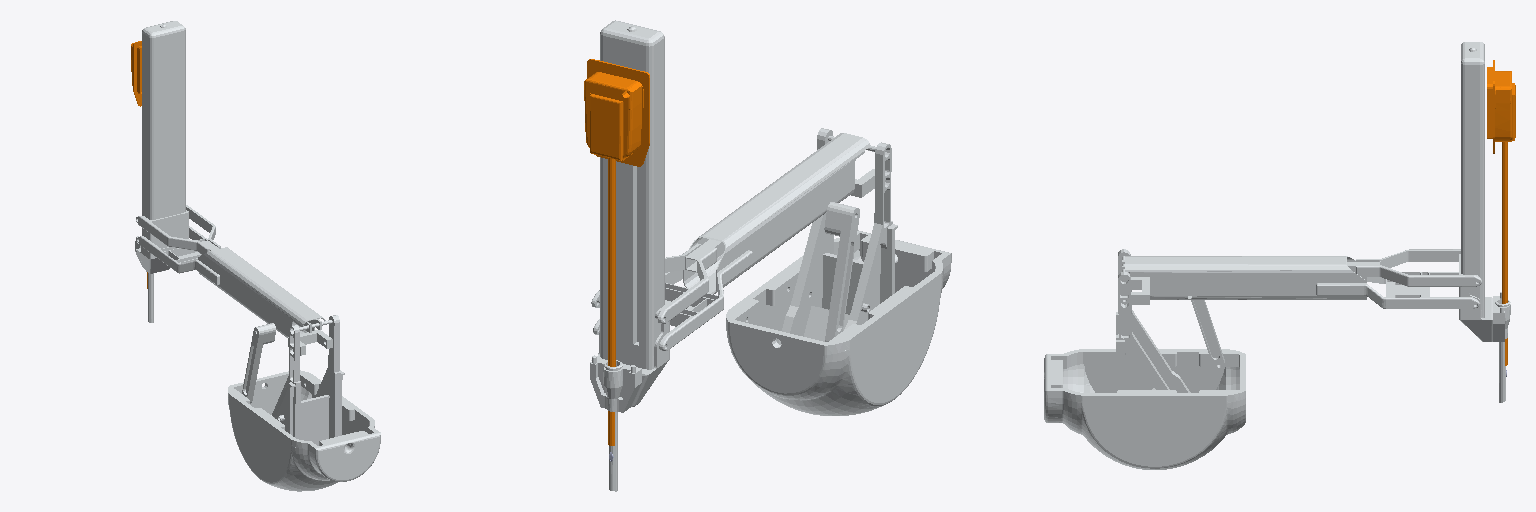
robot.urdf — PSM_PACKAGE:
<robot
  name="PSM_PACKAGE">
  <link
    name="base_link">
    <inertial>
      <origin
        xyz="-1.218799738518E-08 -0.170155334863205 -0.0856068339372725"
        rpy="0 0 0" />
      <mass
        value="2.01611935350024" />
      <inertia
        ixx="0"
        ixy="0"
        ixz="0"
        iyy="0"
        iyz="0"
        izz="0" />
    </inertial>
    <visual>
      <origin
        xyz="0 0 0"
        rpy="0 0 0" />
      <geometry>
        <mesh
          filename="package://PSM_PACKAGE/meshes/base_link.STL" />
      </geometry>
      <material
        name="">
        <color
          rgba="0.898039215686275 0.917647058823529 0.929411764705882 1" />
      </material>
    </visual>
    <collision>
      <origin
        xyz="0 0 0"
        rpy="0 0 0" />
      <geometry>
        <mesh
          filename="package://PSM_PACKAGE/meshes/base_link.STL" />
      </geometry>
    </collision>
  </link>
  <link
    name="yaw_Link">
    <inertial>
      <origin
        xyz="-0.038768826895421 7.84810687538258E-05 0.0415960702785929"
        rpy="0 0 0" />
      <mass
        value="1.47048370646334" />
      <inertia
        ixx="0"
        ixy="0"
        ixz="0"
        iyy="0"
        iyz="0"
        izz="0" />
    </inertial>
    <visual>
      <origin
        xyz="0 0 0"
        rpy="0 0 0" />
      <geometry>
        <mesh
          filename="package://PSM_PACKAGE/meshes/yaw_Link.STL" />
      </geometry>
      <material
        name="">
        <color
          rgba="0.898039215686275 0.917647058823529 0.929411764705882 1" />
      </material>
    </visual>
    <collision>
      <origin
        xyz="0 0 0"
        rpy="0 0 0" />
      <geometry>
        <mesh
          filename="package://PSM_PACKAGE/meshes/yaw_Link.STL" />
      </geometry>
    </collision>
  </link>
  <joint
    name="yaw_joint"
    type="continuous">
    <origin
      xyz="0 0 0"
      rpy="1.57079632679489 -1.5707963267949 0" />
    <parent
      link="base_link" />
    <child
      link="yaw_Link" />
    <axis
      xyz="0 0 -1" />
  </joint>
  <link
    name="pitch_back_Link">
    <inertial>
      <origin
        xyz="-0.0116509415966225 -0.0362409831473348 3.55759910590909E-05"
        rpy="0 0 0" />
      <mass
        value="0.984944647833389" />
      <inertia
        ixx="0"
        ixy="0"
        ixz="0"
        iyy="0"
        iyz="0"
        izz="0" />
    </inertial>
    <visual>
      <origin
        xyz="0 0 0"
        rpy="0 0 0" />
      <geometry>
        <mesh
          filename="package://PSM_PACKAGE/meshes/pitch_back_Link.STL" />
      </geometry>
      <material
        name="">
        <color
          rgba="0.898039215686275 0.917647058823529 0.929411764705882 1" />
      </material>
    </visual>
    <collision>
      <origin
        xyz="0 0 0"
        rpy="0 0 0" />
      <geometry>
        <mesh
          filename="package://PSM_PACKAGE/meshes/pitch_back_Link.STL" />
      </geometry>
    </collision>
  </link>
  <joint
    name="pitch_back_joint"
    type="continuous">
    <origin
      xyz="0 0 0.0296"
      rpy="-1.5708 -0.29073 1.7787E-15" />
    <parent
      link="yaw_Link" />
    <child
      link="pitch_back_Link" />
    <axis
      xyz="0 0 1" />
  </joint>
  <link
    name="pitch_bottom_Link">
    <inertial>
      <origin
        xyz="0.256832099418569 -0.0103480348656514 -6.17918787845137E-06"
        rpy="0 0 0" />
      <mass
        value="0.445694866856226" />
      <inertia
        ixx="0"
        ixy="0"
        ixz="0"
        iyy="0"
        iyz="0"
        izz="0" />
    </inertial>
    <visual>
      <origin
        xyz="0 0 0"
        rpy="0 0 0" />
      <geometry>
        <mesh
          filename="package://PSM_PACKAGE/meshes/pitch_bottom_Link.STL" />
      </geometry>
      <material
        name="">
        <color
          rgba="0.898039215686275 0.917647058823529 0.929411764705882 1" />
      </material>
    </visual>
    <collision>
      <origin
        xyz="0 0 0"
        rpy="0 0 0" />
      <geometry>
        <mesh
          filename="package://PSM_PACKAGE/meshes/pitch_bottom_Link.STL" />
      </geometry>
    </collision>
  </link>
  <joint
    name="pitch_bottom_joint"
    type="continuous">
    <origin
      xyz="0.15 0 0"
      rpy="0 0 1.8615" />
    <parent
      link="pitch_back_Link" />
    <child
      link="pitch_bottom_Link" />
    <axis
      xyz="0 0 1" />
  </joint>
  <link
    name="pitch_end_Link">
    <inertial>
      <origin
        xyz="-0.00192933659672778 -0.13612686758295 -5.97042575610683E-08"
        rpy="0 0 0" />
      <mass
        value="2.09102449600226" />
      <inertia
        ixx="0"
        ixy="0"
        ixz="0"
        iyy="0"
        iyz="0"
        izz="0" />
    </inertial>
    <visual>
      <origin
        xyz="0 0 0"
        rpy="0 0 0" />
      <geometry>
        <mesh
          filename="package://PSM_PACKAGE/meshes/pitch_end_Link.STL" />
      </geometry>
      <material
        name="">
        <color
          rgba="0.898039215686275 0.917647058823529 0.929411764705882 1" />
      </material>
    </visual>
    <collision>
      <origin
        xyz="0 0 0"
        rpy="0 0 0" />
      <geometry>
        <mesh
          filename="package://PSM_PACKAGE/meshes/pitch_end_Link.STL" />
      </geometry>
    </collision>
  </link>
  <joint
    name="pitch_end_joint"
    type="continuous">
    <origin
      xyz="0.516000000000004 0 0"
      rpy="0 0 -4.29558764834341E-13" />
    <parent
      link="pitch_bottom_Link" />
    <child
      link="pitch_end_Link" />
    <axis
      xyz="0 0 1" />
  </joint>
  <link
    name="main_insertion_Link">
    <inertial>
      <origin
        xyz="0.00405627466206293 -0.000109340705171561 0.0104645658395064"
        rpy="0 0 0" />
      <mass
        value="0.224908528510799" />
      <inertia
        ixx="1.79436848992526E-05"
        ixy="-6.21725156718615E-08"
        ixz="1.26595521175575E-05"
        iyy="2.68749808161646E-05"
        iyz="8.81213737729348E-08"
        izz="8.93216146530439E-06" />
    </inertial>
    <visual>
      <origin
        xyz="0 0 0"
        rpy="0 0 0" />
      <geometry>
        <mesh
          filename="package://PSM_PACKAGE/meshes/main_insertion_Link.STL" />
      </geometry>
      <material
        name="">
        <color
          rgba="1 0.556862745098039 0.0588235294117647 0.4" />
      </material>
    </visual>
    <collision>
      <origin
        xyz="0 0 0"
        rpy="0 0 0" />
      <geometry>
        <mesh
          filename="package://PSM_PACKAGE/meshes/main_insertion_Link.STL" />
      </geometry>
    </collision>
  </link>
  <joint
    name="main_insertion_joint"
    type="prismatic">
    <origin
      xyz="0.043 -0.28809 0"
      rpy="1.5708 0 3.1416" />
    <parent
      link="pitch_end_Link" />
    <child
      link="main_insertion_Link" />
    <axis
      xyz="0 0 -1" />
    <limit
      effort="0"
      velocity="0" />
  </joint>
  <link
    name="tool_roll_link">
    <inertial>
      <origin
        xyz="-1.1310785863472E-08 -7.45590006904056E-09 -0.00582338133566149"
        rpy="0 0 0" />
      <mass
        value="0.000332248646148611" />
      <inertia
        ixx="0"
        ixy="0"
        ixz="0"
        iyy="0"
        iyz="0"
        izz="0" />
    </inertial>
    <visual>
      <origin
        xyz="0 0 0"
        rpy="0 0 0" />
      <geometry>
        <mesh
          filename="package://PSM_PACKAGE/meshes/tool_roll_link.STL" />
      </geometry>
      <material
        name="">
        <color
          rgba="0.796078431372549 0.823529411764706 0.937254901960784 1" />
      </material>
    </visual>
    <collision>
      <origin
        xyz="0 0 0"
        rpy="0 0 0" />
      <geometry>
        <mesh
          filename="package://PSM_PACKAGE/meshes/tool_roll_link.STL" />
      </geometry>
    </collision>
  </link>
  <joint
    name="tool_roll_joint"
    type="continuous">
    <origin
      xyz="0 0 0.4169"
      rpy="4.0037E-15 2.5989E-29 -3.1416" />
    <parent
      link="main_insertion_Link" />
    <child
      link="tool_roll_link" />
    <axis
      xyz="0 0 -1" />
  </joint>
  <link
    name="tool_pitch_link">
    <inertial>
      <origin
        xyz="0.00357661239129972 -4.86748958434813E-05 4.44129526631568E-06"
        rpy="0 0 0" />
      <mass
        value="0.000259766323068838" />
      <inertia
        ixx="1.49981979951931E-13"
        ixy="1.93241332354976E-12"
        ixz="4.19072395860641E-12"
        iyy="1.4211666515159E-10"
        iyz="-5.7032472380205E-14"
        izz="1.42019280436736E-10" />
    </inertial>
    <visual>
      <origin
        xyz="0 0 0"
        rpy="0 0 0" />
      <geometry>
        <mesh
          filename="package://PSM_PACKAGE/meshes/tool_pitch_link.STL" />
      </geometry>
      <material
        name="">
        <color
          rgba="0.796078431372549 0.823529411764706 0.937254901960784 1" />
      </material>
    </visual>
    <collision>
      <origin
        xyz="0 0 0"
        rpy="0 0 0" />
      <geometry>
        <mesh
          filename="package://PSM_PACKAGE/meshes/tool_pitch_link.STL" />
      </geometry>
    </collision>
  </link>
  <joint
    name="tool_pitch_joint"
    type="continuous">
    <origin
      xyz="0 0 0"
      rpy="1.5708 -1.5708 0" />
    <parent
      link="tool_roll_link" />
    <child
      link="tool_pitch_link" />
    <axis
      xyz="0 0 -1" />
  </joint>
  <link
    name="tool_yaw_link">
    <inertial>
      <origin
        xyz="-3.38952951650343E-15 -1.5779044737485E-13 -5.00000011357526E-05"
        rpy="0 0 0" />
      <mass
        value="6.6366144807084E-06" />
      <inertia
        ixx="0"
        ixy="0"
        ixz="0"
        iyy="0"
        iyz="0"
        izz="0" />
    </inertial>
    <visual>
      <origin
        xyz="0 0 0"
        rpy="0 0 0" />
      <geometry>
        <mesh
          filename="package://PSM_PACKAGE/meshes/tool_yaw_link.STL" />
      </geometry>
      <material
        name="">
        <color
          rgba="0.796078431372549 0.823529411764706 0.937254901960784 1" />
      </material>
    </visual>
    <collision>
      <origin
        xyz="0 0 0"
        rpy="0 0 0" />
      <geometry>
        <mesh
          filename="package://PSM_PACKAGE/meshes/tool_yaw_link.STL" />
      </geometry>
    </collision>
  </link>
  <joint
    name="tool_yaw_joint"
    type="continuous">
    <origin
      xyz="0.0091 -5E-05 0"
      rpy="1.5708 -1.5708 0" />
    <parent
      link="tool_pitch_link" />
    <child
      link="tool_yaw_link" />
    <axis
      xyz="0 0 1" />
  </joint>
  <link
    name="tool_gripper1_link">
    <inertial>
      <origin
        xyz="0.000188736724872208 0.00135264310260425 -0.000866946464327167"
        rpy="0 0 0" />
      <mass
        value="3.90695979761291E-05" />
      <inertia
        ixx="0"
        ixy="0"
        ixz="0"
        iyy="0"
        iyz="0"
        izz="0" />
    </inertial>
    <visual>
      <origin
        xyz="0 0 0"
        rpy="0 0 0" />
      <geometry>
        <mesh
          filename="package://PSM_PACKAGE/meshes/tool_gripper1_link.STL" />
      </geometry>
      <material
        name="">
        <color
          rgba="0.796078431372549 0.823529411764706 0.937254901960784 1" />
      </material>
    </visual>
    <collision>
      <origin
        xyz="0 0 0"
        rpy="0 0 0" />
      <geometry>
        <mesh
          filename="package://PSM_PACKAGE/meshes/tool_gripper1_link.STL" />
      </geometry>
    </collision>
  </link>
  <joint
    name="tool_gripper1_joint"
    type="continuous">
    <origin
      xyz="0 0 0"
      rpy="0 0 0" />
    <parent
      link="tool_yaw_link" />
    <child
      link="tool_gripper1_link" />
    <axis
      xyz="0 0 1" />
  </joint>
  <link
    name="tool_gripper2_link">
    <inertial>
      <origin
        xyz="-0.000188736724878972 0.00135264310260425 0.000866946462056095"
        rpy="0 0 0" />
      <mass
        value="3.90695979761291E-05" />
      <inertia
        ixx="0"
        ixy="0"
        ixz="0"
        iyy="0"
        iyz="0"
        izz="0" />
    </inertial>
    <visual>
      <origin
        xyz="0 0 0"
        rpy="0 0 0" />
      <geometry>
        <mesh
          filename="package://PSM_PACKAGE/meshes/tool_gripper2_link.STL" />
      </geometry>
      <material
        name="">
        <color
          rgba="0.796078431372549 0.823529411764706 0.937254901960784 1" />
      </material>
    </visual>
    <collision>
      <origin
        xyz="0 0 0"
        rpy="0 0 0" />
      <geometry>
        <mesh
          filename="package://PSM_PACKAGE/meshes/tool_gripper2_link.STL" />
      </geometry>
    </collision>
  </link>
  <joint
    name="tool_gripper2_joint"
    type="continuous">
    <origin
      xyz="0 0 0"
      rpy="0 0 0" />
    <parent
      link="tool_yaw_link" />
    <child
      link="tool_gripper2_link" />
    <axis
      xyz="0 0 1" />
  </joint>
  <link
    name="pitch_top_Link">
    <inertial>
      <origin
        xyz="0.312459561160537 -0.000565655662915554 -3.41314856443592E-07"
        rpy="0 0 0" />
      <mass
        value="0.178406510206941" />
      <inertia
        ixx="0"
        ixy="0"
        ixz="0"
        iyy="0"
        iyz="0"
        izz="0" />
    </inertial>
    <visual>
      <origin
        xyz="0 0 0"
        rpy="0 0 0" />
      <geometry>
        <mesh
          filename="package://PSM_PACKAGE/meshes/pitch_top_Link.STL" />
      </geometry>
      <material
        name="">
        <color
          rgba="0.898039215686275 0.917647058823529 0.929411764705882 1" />
      </material>
    </visual>
    <collision>
      <origin
        xyz="0 0 0"
        rpy="0 0 0" />
      <geometry>
        <mesh
          filename="package://PSM_PACKAGE/meshes/pitch_top_Link.STL" />
      </geometry>
    </collision>
  </link>
  <joint
    name="pitch_top_joint"
    type="continuous">
    <origin
      xyz="0.18366 0.014121 0"
      rpy="0 0 1.8615" />
    <parent
      link="pitch_back_Link" />
    <child
      link="pitch_top_Link" />
    <axis
      xyz="0 0 1" />
  </joint>
  <link
    name="counterweight_Link">
    <inertial>
      <origin
        xyz="0.00864945005675316 -7.99999995084467E-07 -0.0428319993376596"
        rpy="0 0 0" />
      <mass
        value="0.0572294566812767" />
      <inertia
        ixx="0"
        ixy="0"
        ixz="0"
        iyy="0"
        iyz="0"
        izz="0" />
    </inertial>
    <visual>
      <origin
        xyz="0 0 0"
        rpy="0 0 0" />
      <geometry>
        <mesh
          filename="package://PSM_PACKAGE/meshes/counterweight_Link.STL" />
      </geometry>
      <material
        name="">
        <color
          rgba="0.792156862745098 0.819607843137255 0.933333333333333 1" />
      </material>
    </visual>
    <collision>
      <origin
        xyz="0 0 0"
        rpy="0 0 0" />
      <geometry>
        <mesh
          filename="package://PSM_PACKAGE/meshes/counterweight_Link.STL" />
      </geometry>
    </collision>
  </link>
  <joint
    name="counterweight_joint"
    type="prismatic">
    <origin
      xyz="0.028665 -0.095804 0"
      rpy="1.5708 0 1.8615" />
    <parent
      link="pitch_back_Link" />
    <child
      link="counterweight_Link" />
    <axis
      xyz="0 0 1" />
    <limit
      effort="0"
      velocity="0" />
  </joint>
  <link
    name="pitch_front_Link">
    <inertial>
      <origin
        xyz="0.0962686548282791 8.6763929374456E-14 0.0475509864128363"
        rpy="0 0 0" />
      <mass
        value="0.0744252818496182" />
      <inertia
        ixx="0"
        ixy="0"
        ixz="0"
        iyy="0"
        iyz="0"
        izz="0" />
    </inertial>
    <visual>
      <origin
        xyz="0 0 0"
        rpy="0 0 0" />
      <geometry>
        <mesh
          filename="package://PSM_PACKAGE/meshes/pitch_front_Link.STL" />
      </geometry>
      <material
        name="">
        <color
          rgba="0.898039215686275 0.917647058823529 0.929411764705882 1" />
      </material>
    </visual>
    <collision>
      <origin
        xyz="0 0 0"
        rpy="0 0 0" />
      <geometry>
        <mesh
          filename="package://PSM_PACKAGE/meshes/pitch_front_Link.STL" />
      </geometry>
    </collision>
  </link>
  <joint
    name="pitch_front_joint"
    type="continuous">
    <origin
      xyz="0 0 -0.0664"
      rpy="-1.5708 -0.29073 1.7787E-15" />
    <parent
      link="yaw_Link" />
    <child
      link="pitch_front_Link" />
    <axis
      xyz="0 0 1" />
  </joint>
</robot>

--- What the picture shows (computed from the rendered views, not written in the file) ---
3 views of the same robot in one strip: view 1: azimuth 30°, elevation 25°; view 2: azimuth 150°, elevation 25°; view 3: azimuth 270°, elevation 25° (orthographic).
Model PSM_PACKAGE with 14 links and 13 joints (11 continuous, 2 prismatic), rooted at base_link, posed all joints at 0.
Visible links, largest first — view 1: yaw_Link, pitch_end_Link, pitch_bottom_Link, pitch_back_Link, pitch_top_Link, pitch_front_Link, main_insertion_Link; view 2: yaw_Link, pitch_end_Link, pitch_bottom_Link, pitch_back_Link, main_insertion_Link, pitch_front_Link, pitch_top_Link; view 3: yaw_Link, pitch_bottom_Link, pitch_end_Link, pitch_back_Link, main_insertion_Link, pitch_top_Link, pitch_front_Link.
Link boxes in pixels (x1,y1,x2,y2): yaw_Link: (228,370,380,491); pitch_end_Link: (135,21,188,322); pitch_bottom_Link: (137,226,332,355); pitch_back_Link: (272,315,344,445); pitch_top_Link: (136,205,321,332); pitch_front_Link: (242,323,275,403); main_insertion_Link: (131,41,147,288); yaw_Link: (726,230,951,415); pitch_end_Link: (590,20,669,491); pitch_bottom_Link: (593,133,874,350); pitch_back_Link: (778,128,897,344); main_insertion_Link: (584,59,649,445); pitch_front_Link: (824,202,859,341); pitch_top_Link: (591,151,864,323); yaw_Link: (1044,349,1245,469); pitch_bottom_Link: (1121,256,1479,308); pitch_end_Link: (1459,42,1510,402); pitch_back_Link: (1116,249,1190,392); main_insertion_Link: (1487,60,1515,365); pitch_top_Link: (1122,249,1481,286); pitch_front_Link: (1191,300,1224,371).
Size in the robot's own frame: 0.1625 by 0.6928 by 0.6721 metres.
Meshes: 14 distinct files referenced, 11 mesh visuals loaded (11 binary STL); not drawn: 3 (reference not matched to a file when rendering).